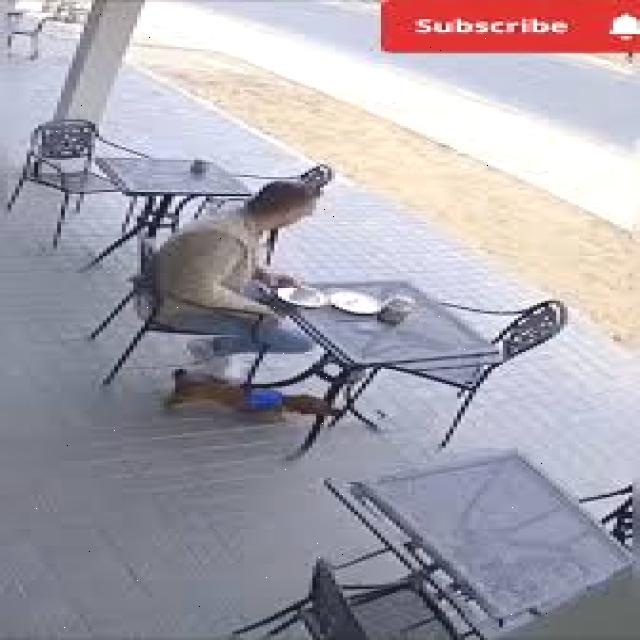sitting: (156, 181, 320, 375)
